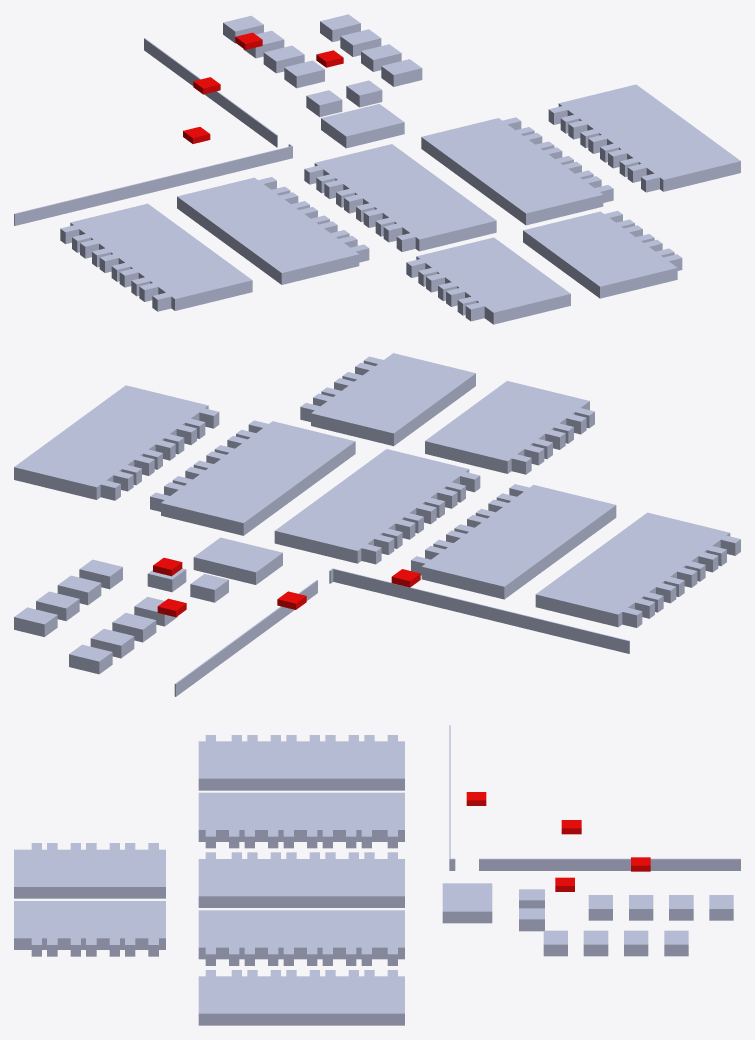
3 renders of one model, top to bottom at view 1: azimuth 30°, elevation 25°; view 2: azimuth 150°, elevation 25°; view 3: azimuth 270°, elevation 25°, orthographic. The views are drawn at different scales.
Parts seen in each view (by area): view 1: 3DGeom-6, 3DGeom-1, 3DGeom-5, 3DGeom-7, 3DGeom-4, 3DGeom-8, 3DGeom-24, 3DGeom-2, 3DGeom-9, 3DGeom-3, 3DGeom-16, 3DGeom-12 (+8 smaller); view 2: 3DGeom-5, 3DGeom-1, 3DGeom-7, 3DGeom-6, 3DGeom-4, 3DGeom-24, 3DGeom-8, 3DGeom-2, 3DGeom-9, 3DGeom-3, 3DGeom-15, 3DGeom-19 (+8 smaller); view 3: 3DGeom-4, 3DGeom-7, 3DGeom-1, 3DGeom-6, 3DGeom-5, 3DGeom-8, 3DGeom-24, 3DGeom-3, 3DGeom-9, 3DGeom-17, 3DGeom-19, 3DGeom-16 (+7 smaller).
Part boxes in pixels (bbox=[...]): 3DGeom-6: bbox=[421, 117, 613, 225]; 3DGeom-1: bbox=[60, 203, 252, 311]; 3DGeom-5: bbox=[304, 144, 496, 251]; 3DGeom-7: bbox=[548, 84, 740, 192]; 3DGeom-4: bbox=[177, 177, 369, 284]; 3DGeom-8: bbox=[406, 237, 570, 324]; 3DGeom-24: bbox=[523, 211, 682, 298]; 3DGeom-2: bbox=[14, 144, 292, 225]; 3DGeom-9: bbox=[321, 104, 404, 148]; 3DGeom-3: bbox=[144, 38, 277, 147]; 3DGeom-16: bbox=[381, 59, 422, 86]; 3DGeom-12: bbox=[284, 60, 324, 88]; 3DGeom-5: bbox=[274, 449, 480, 564]; 3DGeom-1: bbox=[535, 512, 740, 627]; 3DGeom-7: bbox=[14, 385, 219, 500]; 3DGeom-6: bbox=[150, 420, 355, 535]; 3DGeom-4: bbox=[411, 484, 616, 599]; 3DGeom-24: bbox=[300, 353, 475, 446]; 3DGeom-8: bbox=[425, 381, 594, 474]; 3DGeom-2: bbox=[329, 568, 629, 653]; 3DGeom-9: bbox=[193, 537, 282, 584]; 3DGeom-3: bbox=[174, 580, 317, 696]; 3DGeom-15: bbox=[69, 644, 112, 674]; 3DGeom-19: bbox=[14, 607, 57, 636]; 3DGeom-4: bbox=[198, 792, 404, 848]; 3DGeom-7: bbox=[198, 970, 404, 1025]; 3DGeom-1: bbox=[198, 735, 404, 790]; 3DGeom-6: bbox=[198, 910, 404, 965]; 3DGeom-5: bbox=[198, 852, 404, 907]; 3DGeom-8: bbox=[14, 843, 165, 898]; 3DGeom-24: bbox=[14, 901, 165, 956]; 3DGeom-3: bbox=[479, 858, 740, 870]; 3DGeom-9: bbox=[442, 883, 492, 923]; 3DGeom-17: bbox=[583, 930, 608, 956]; 3DGeom-19: bbox=[664, 930, 688, 956]; 3DGeom-16: bbox=[543, 930, 567, 956].
Bounding box in the file's own units: 52510 × 55950 × 3000.
